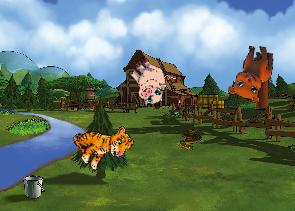bear: (226, 41, 275, 104)
pig: (120, 53, 176, 109)
tiger: (67, 109, 137, 177)
